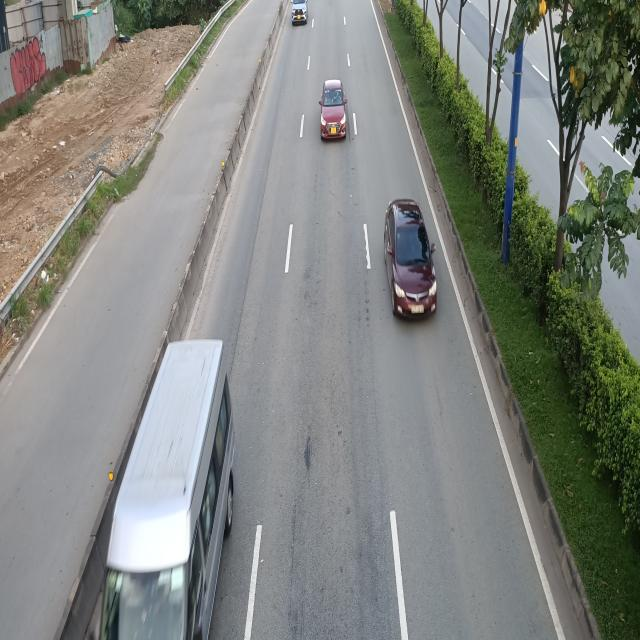car: (385, 200, 437, 324), (320, 80, 350, 141)
van: (81, 335, 231, 636)
